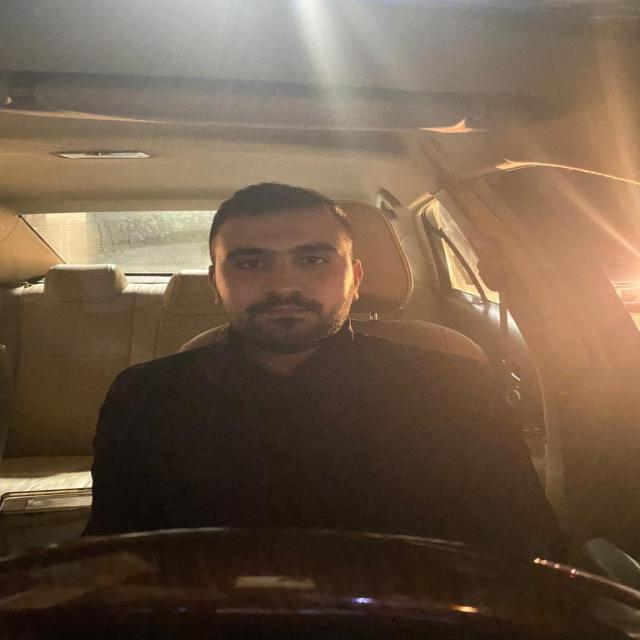person: (213, 194, 367, 354)
